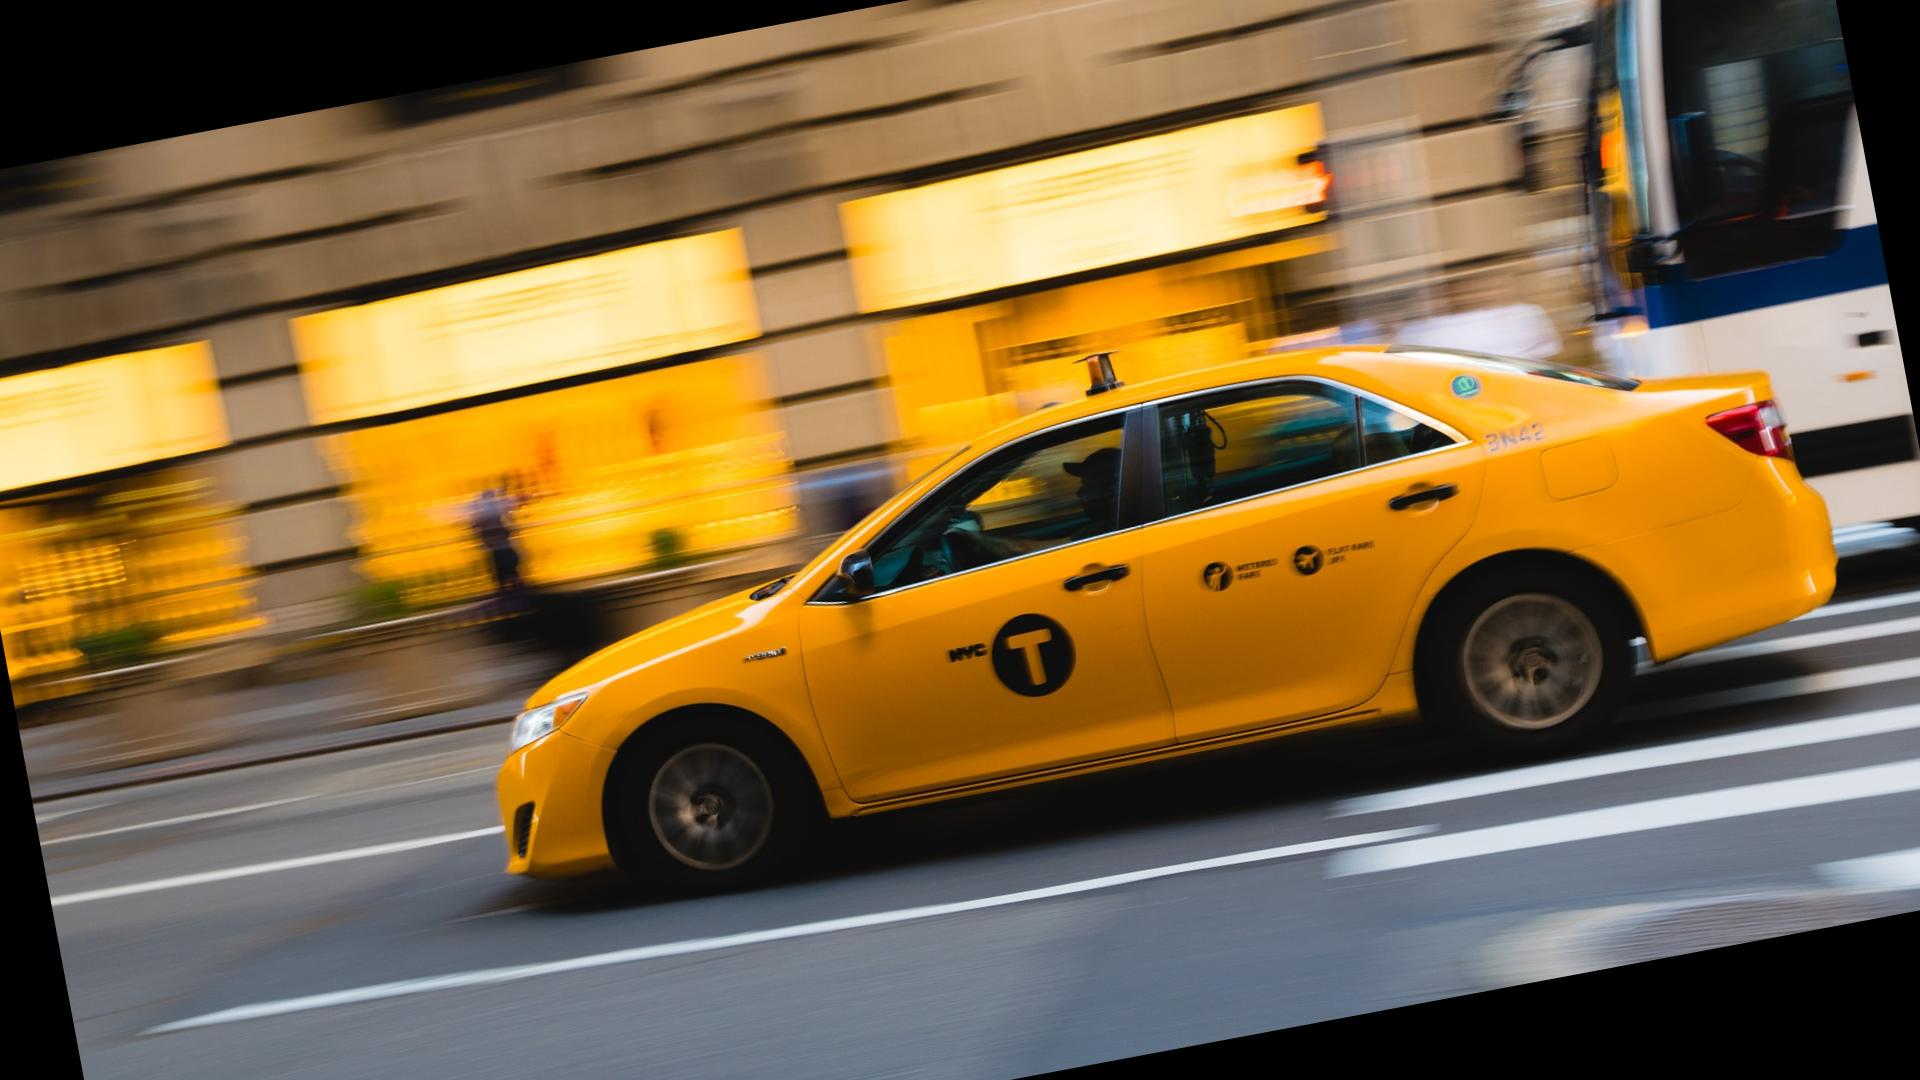taxi: (491, 409, 1867, 818)
